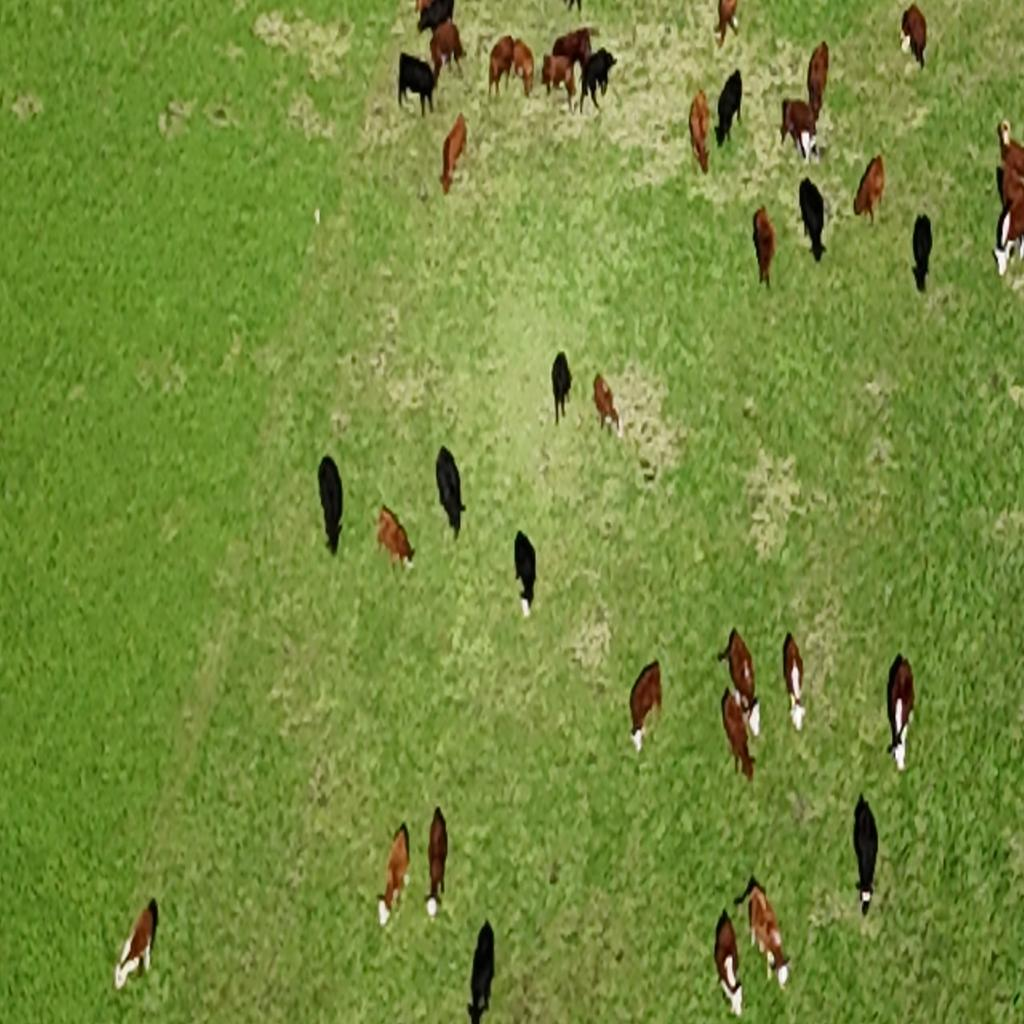cow: (742, 877, 789, 988), (115, 895, 160, 991), (374, 820, 411, 931), (725, 629, 763, 731), (885, 650, 916, 772), (720, 688, 756, 784), (714, 907, 744, 1017), (852, 793, 879, 914), (628, 660, 662, 754), (436, 445, 467, 539), (467, 920, 495, 1024), (317, 453, 344, 557), (424, 811, 448, 923), (376, 504, 415, 572), (397, 50, 437, 116), (438, 109, 467, 198), (799, 176, 827, 264), (782, 94, 817, 160), (512, 528, 536, 620), (539, 51, 578, 107), (782, 631, 806, 722), (715, 69, 742, 147), (854, 154, 884, 224), (752, 205, 776, 288), (580, 52, 611, 112), (807, 38, 829, 122), (689, 89, 710, 175), (592, 372, 620, 436), (910, 210, 932, 290), (432, 18, 464, 72), (551, 350, 572, 424), (488, 32, 516, 86), (902, 2, 926, 60), (417, 0, 455, 36), (512, 34, 534, 94), (715, 0, 739, 48)
